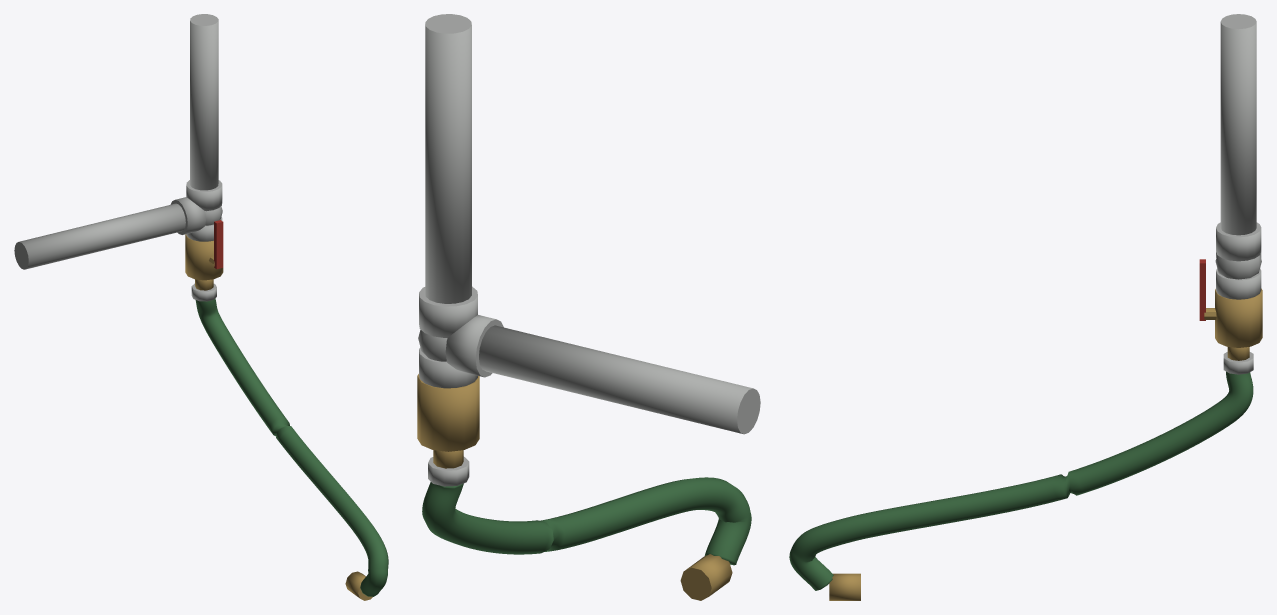
Rendered from barrel_fill_front3.obj.
3 renders of one model, left to right at view 1: azimuth 30°, elevation 25°; view 2: azimuth 150°, elevation 25°; view 3: azimuth 270°, elevation 25°, orthographic. The views are drawn at different scales.
Visible parts, largest first — view 1: hose, pipe4, pipe8, valve_body, elbow_socket4, elbow_socket8; view 2: pipe4, pipe8, hose, valve_body, elbow_socket8, elbow_socket4, nozzle, elbow_socket1, hose_collar, elbow_hub, hose_barb; view 3: hose, pipe4, valve_body, elbow_socket4, elbow_socket1, nozzle, elbow_hub.
Boxes of the visible parts, bbox=[...] form: hose: bbox=[195, 298, 388, 596]; pipe4: bbox=[190, 14, 218, 190]; pipe8: bbox=[14, 203, 185, 269]; valve_body: bbox=[185, 234, 223, 280]; elbow_socket4: bbox=[186, 180, 222, 211]; elbow_socket8: bbox=[170, 197, 205, 234]; pipe4: bbox=[425, 14, 471, 303]; pipe8: bbox=[479, 325, 760, 434]; hose: bbox=[422, 477, 751, 565]; valve_body: bbox=[417, 374, 479, 451]; elbow_socket8: bbox=[445, 315, 503, 377]; elbow_socket4: bbox=[419, 286, 477, 337]; nozzle: bbox=[680, 554, 732, 600]; elbow_socket1: bbox=[419, 348, 477, 388]; hose_collar: bbox=[428, 456, 469, 486]; elbow_hub: bbox=[418, 329, 447, 361]; hose_barb: bbox=[433, 450, 463, 468]; hose: bbox=[789, 371, 1253, 590]; pipe4: bbox=[1220, 14, 1256, 235]; valve_body: bbox=[1215, 288, 1262, 347]; elbow_socket4: bbox=[1216, 222, 1261, 261]; elbow_socket1: bbox=[1216, 268, 1261, 299]; nozzle: bbox=[829, 573, 860, 600]; elbow_hub: bbox=[1215, 255, 1261, 279].
Bounding box in the file's own units: 0.554 × 1.2 × 0.8942.
4 materials, 4 textured.
